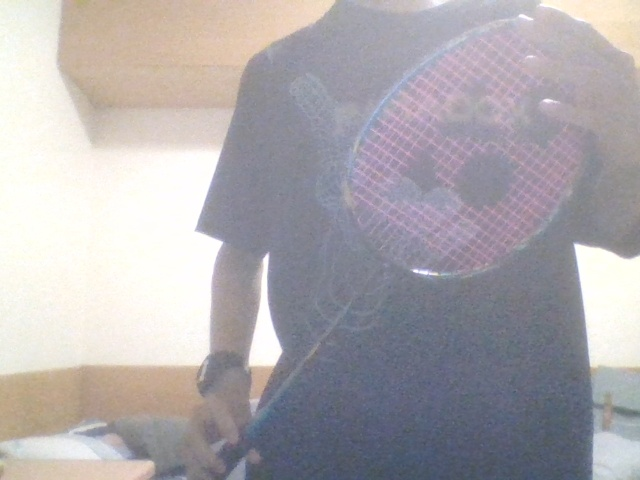human: (195, 1, 640, 480)
racket: (204, 16, 594, 480)
